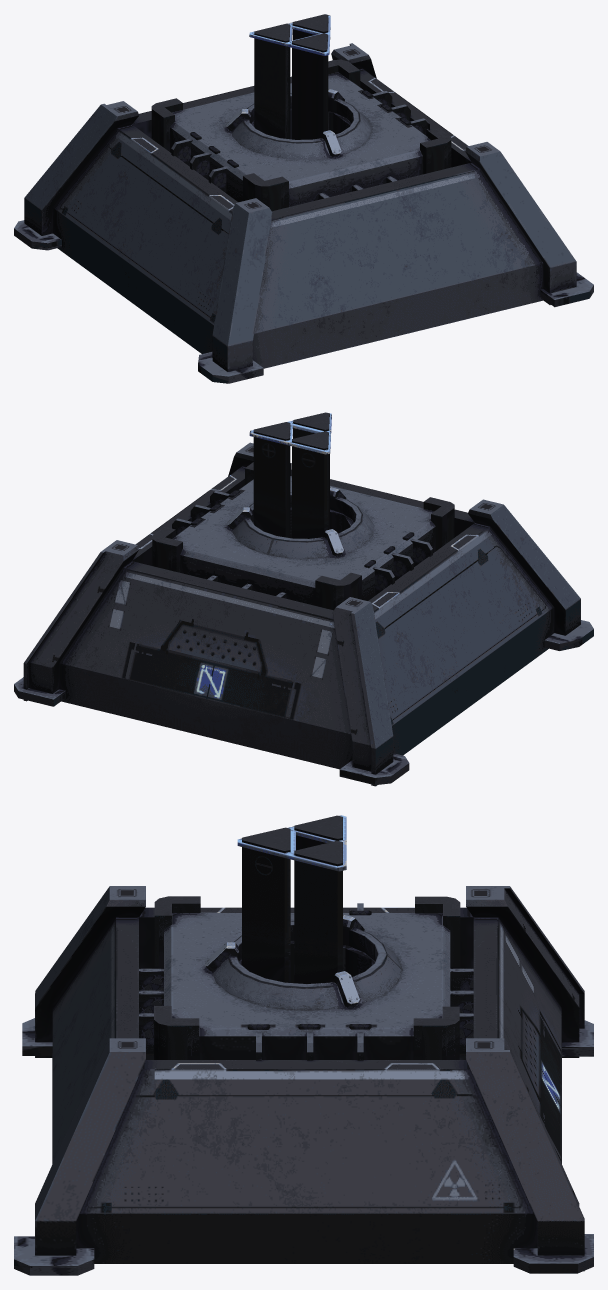
Rendered from farm.glb.
The picture shows the model from 3 angles, top to bottom: view 1: azimuth 30°, elevation 25°; view 2: azimuth 150°, elevation 25°; view 3: azimuth 270°, elevation 25°; orthographic projection. The views are drawn at different scales.
Parts seen in each view (by area): view 1: supply_base, supply_battery; view 2: supply_base, supply_battery; view 3: supply_base, supply_battery.
Part boxes in pixels (x1,y1,x2,y2): supply_base: (14,43,593,383); supply_battery: (249,14,330,139); supply_base: (14,442,593,786); supply_battery: (249,412,331,538); supply_base: (14,886,593,1275); supply_battery: (237,815,346,983).
Bounding box in the file's own units: 0.9022 × 0.5351 × 0.8864.
1 material, 1 textured.
